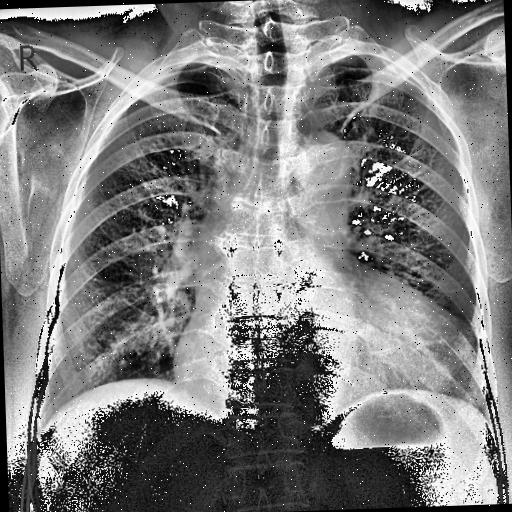0- Aortic enlargement: (276, 122, 353, 222), (276, 128, 350, 198), (293, 131, 350, 184)
3- Cardiomegaly: (172, 320, 487, 426), (168, 303, 480, 401), (168, 314, 480, 398)
